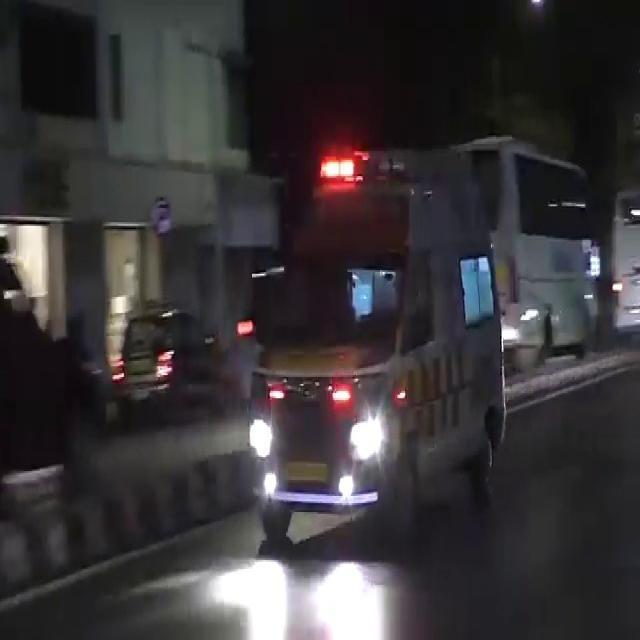ambulance: (239, 152, 534, 554)
